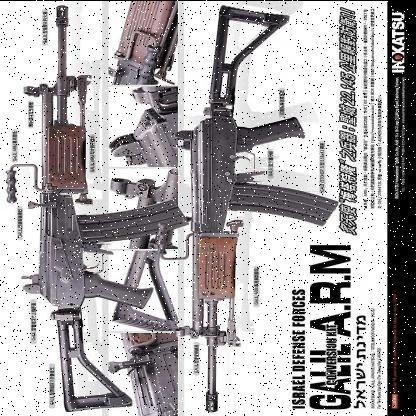rifle: (0, 2, 203, 413), (167, 5, 341, 416)
